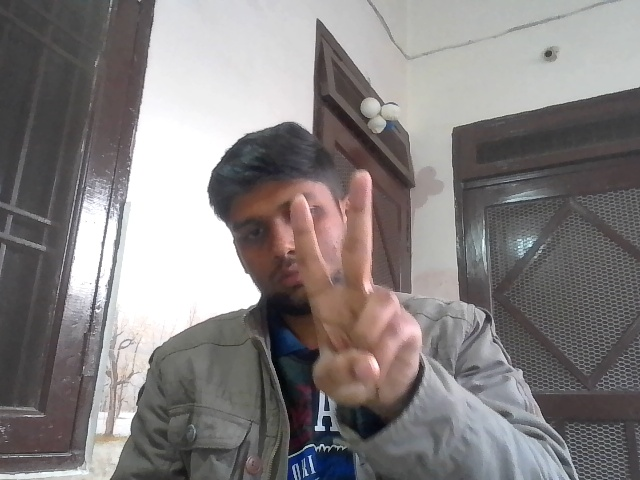Enjoy: (282, 168, 435, 419)
